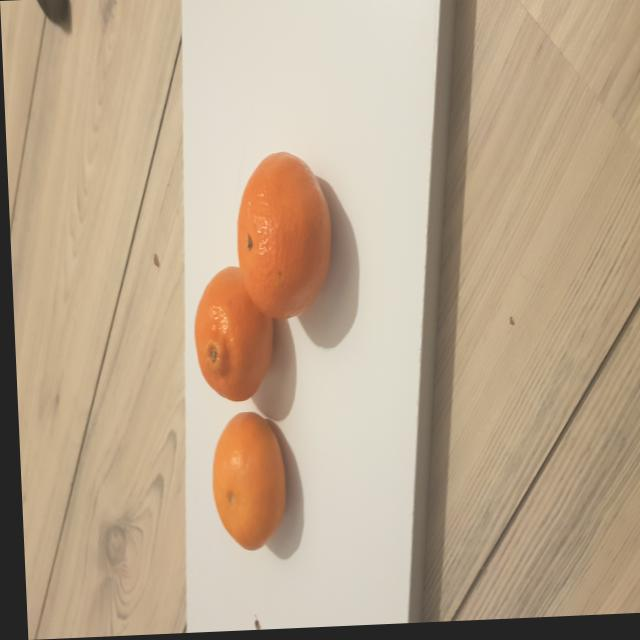Orange: (235, 153, 330, 321), (192, 267, 270, 403), (208, 413, 283, 552)
